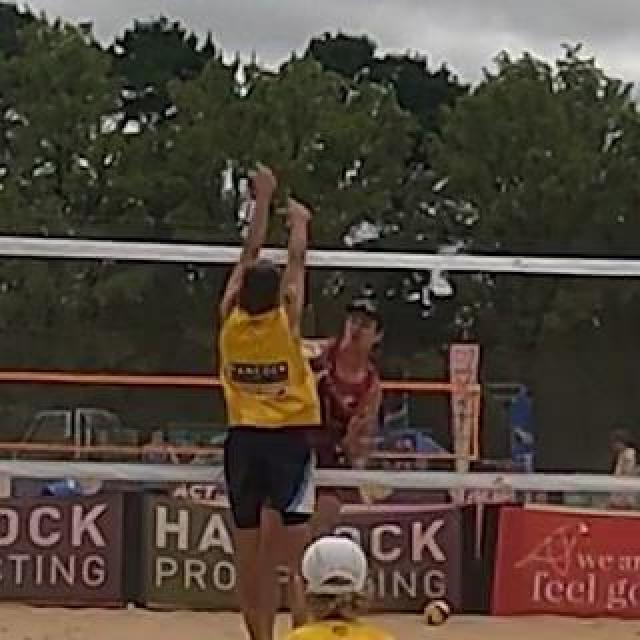volleyball: (425, 600, 449, 626)
